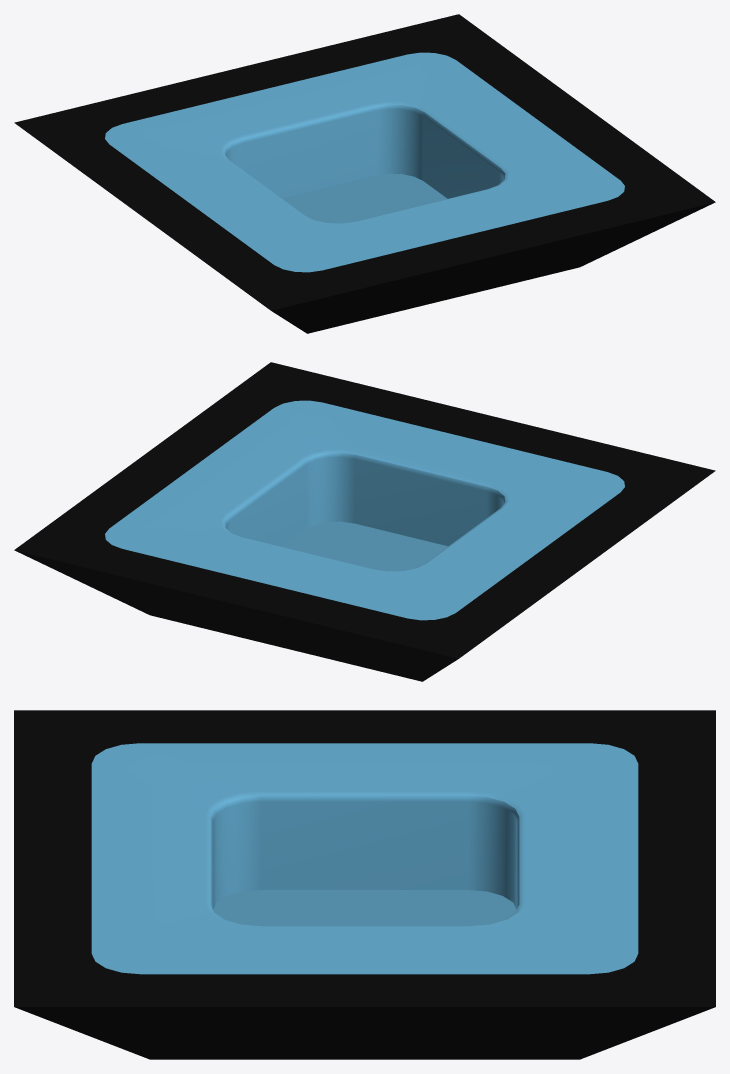
Rendered from Cell_Blue_V3.fbx.
3 renders of one model, top to bottom at view 1: azimuth 30°, elevation 25°; view 2: azimuth 150°, elevation 25°; view 3: azimuth 270°, elevation 25°, orthographic. The views are drawn at different scales.
Visible parts, largest first — view 1: Tile_Blue, Cell_Border; view 2: Tile_Blue, Cell_Border; view 3: Tile_Blue, Cell_Border.
Part boxes in pixels (bbox=[...]): Tile_Blue: bbox=[105, 52, 624, 272]; Cell_Border: bbox=[14, 14, 715, 333]; Tile_Blue: bbox=[105, 400, 624, 620]; Cell_Border: bbox=[14, 362, 715, 681]; Tile_Blue: bbox=[91, 743, 638, 974]; Cell_Border: bbox=[14, 710, 715, 1059].
Bounding box in the file's own units: 112 × 19.36 × 112.
